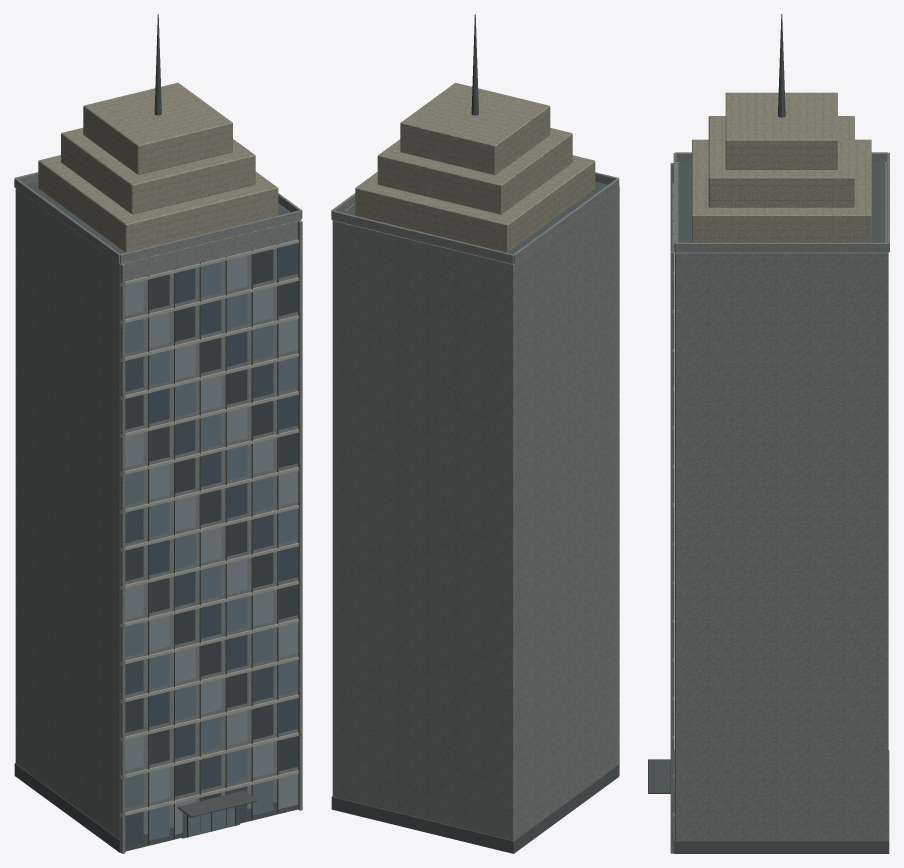
The model's file is tower.glb.
The picture shows the model from 3 angles, left to right: view 1: azimuth 30°, elevation 25°; view 2: azimuth 150°, elevation 25°; view 3: azimuth 270°, elevation 25°; orthographic projection. The views are drawn at different scales.
Visible parts, largest first — view 1: tower / Aged concrete, tower / Weathered limestone, tower / Glass 1, tower / Glass 2, tower / Glass 0, tower / Glass 3, tower / Muted stone trim, tower / Ironwork, tower / Recess shadow and roofing; view 2: tower / Aged concrete, tower / Weathered limestone, tower / Recess shadow and roofing; view 3: tower / Aged concrete, tower / Weathered limestone, tower / Recess shadow and roofing, tower / Ironwork.
Boxes of the visible parts, <box> form: tower / Aged concrete: <box>14,172,302,853</box>; tower / Weathered limestone: <box>38,82,278,252</box>; tower / Glass 1: <box>125,262,298,840</box>; tower / Glass 2: <box>125,255,298,834</box>; tower / Glass 0: <box>125,243,298,846</box>; tower / Glass 3: <box>125,249,298,800</box>; tower / Muted stone trim: <box>120,239,298,827</box>; tower / Ironwork: <box>148,14,278,844</box>; tower / Recess shadow and roofing: <box>14,181,297,852</box>; tower / Aged concrete: <box>331,172,619,840</box>; tower / Weathered limestone: <box>355,82,595,252</box>; tower / Recess shadow and roofing: <box>331,182,618,853</box>; tower / Aged concrete: <box>670,152,889,853</box>; tower / Weathered limestone: <box>692,92,871,242</box>; tower / Recess shadow and roofing: <box>674,162,889,853</box>; tower / Ironwork: <box>648,14,785,793</box>.
Size of the model in its own units: 19.25 by 78.05 by 21.52.
10 materials, 3 textured.
